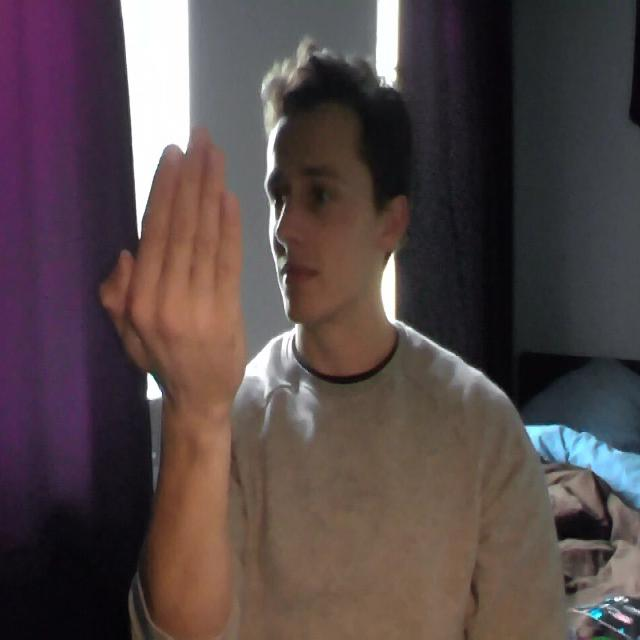forward: (85, 112, 256, 436)
